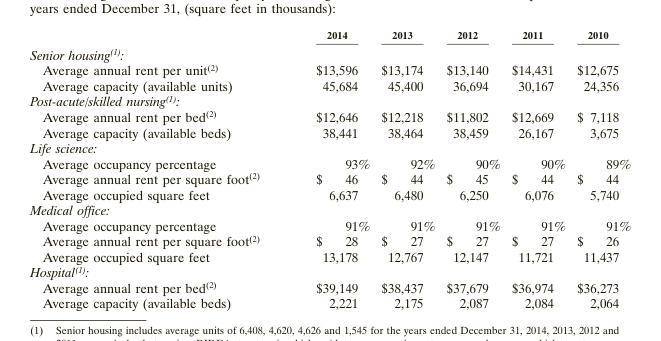table: (29, 28, 630, 310)
table column: (29, 28, 287, 310), (287, 28, 375, 310), (375, 28, 440, 310), (440, 28, 505, 310), (505, 28, 570, 310), (570, 28, 630, 310)
table column header: (29, 28, 630, 43)
table projected row header: (29, 43, 630, 61), (29, 139, 630, 155), (29, 201, 630, 217), (29, 263, 630, 279), (29, 93, 630, 108)
table row: (29, 43, 630, 61), (29, 61, 630, 77), (29, 77, 630, 93), (29, 108, 630, 124), (29, 139, 630, 155), (29, 170, 630, 186), (29, 201, 630, 217), (29, 232, 630, 248), (29, 263, 630, 279), (29, 294, 630, 310), (29, 28, 630, 43), (29, 93, 630, 108), (29, 124, 630, 139), (29, 155, 630, 170), (29, 186, 630, 201), (29, 217, 630, 232), (29, 248, 630, 263), (29, 279, 630, 294)
